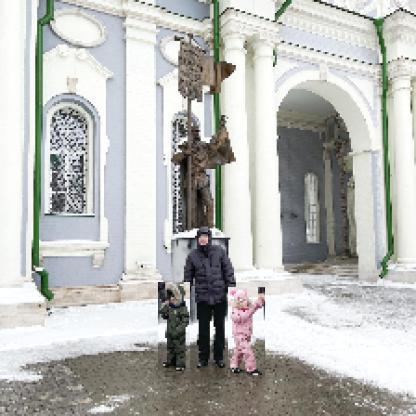child: (229, 288, 268, 379), (159, 283, 192, 373)
